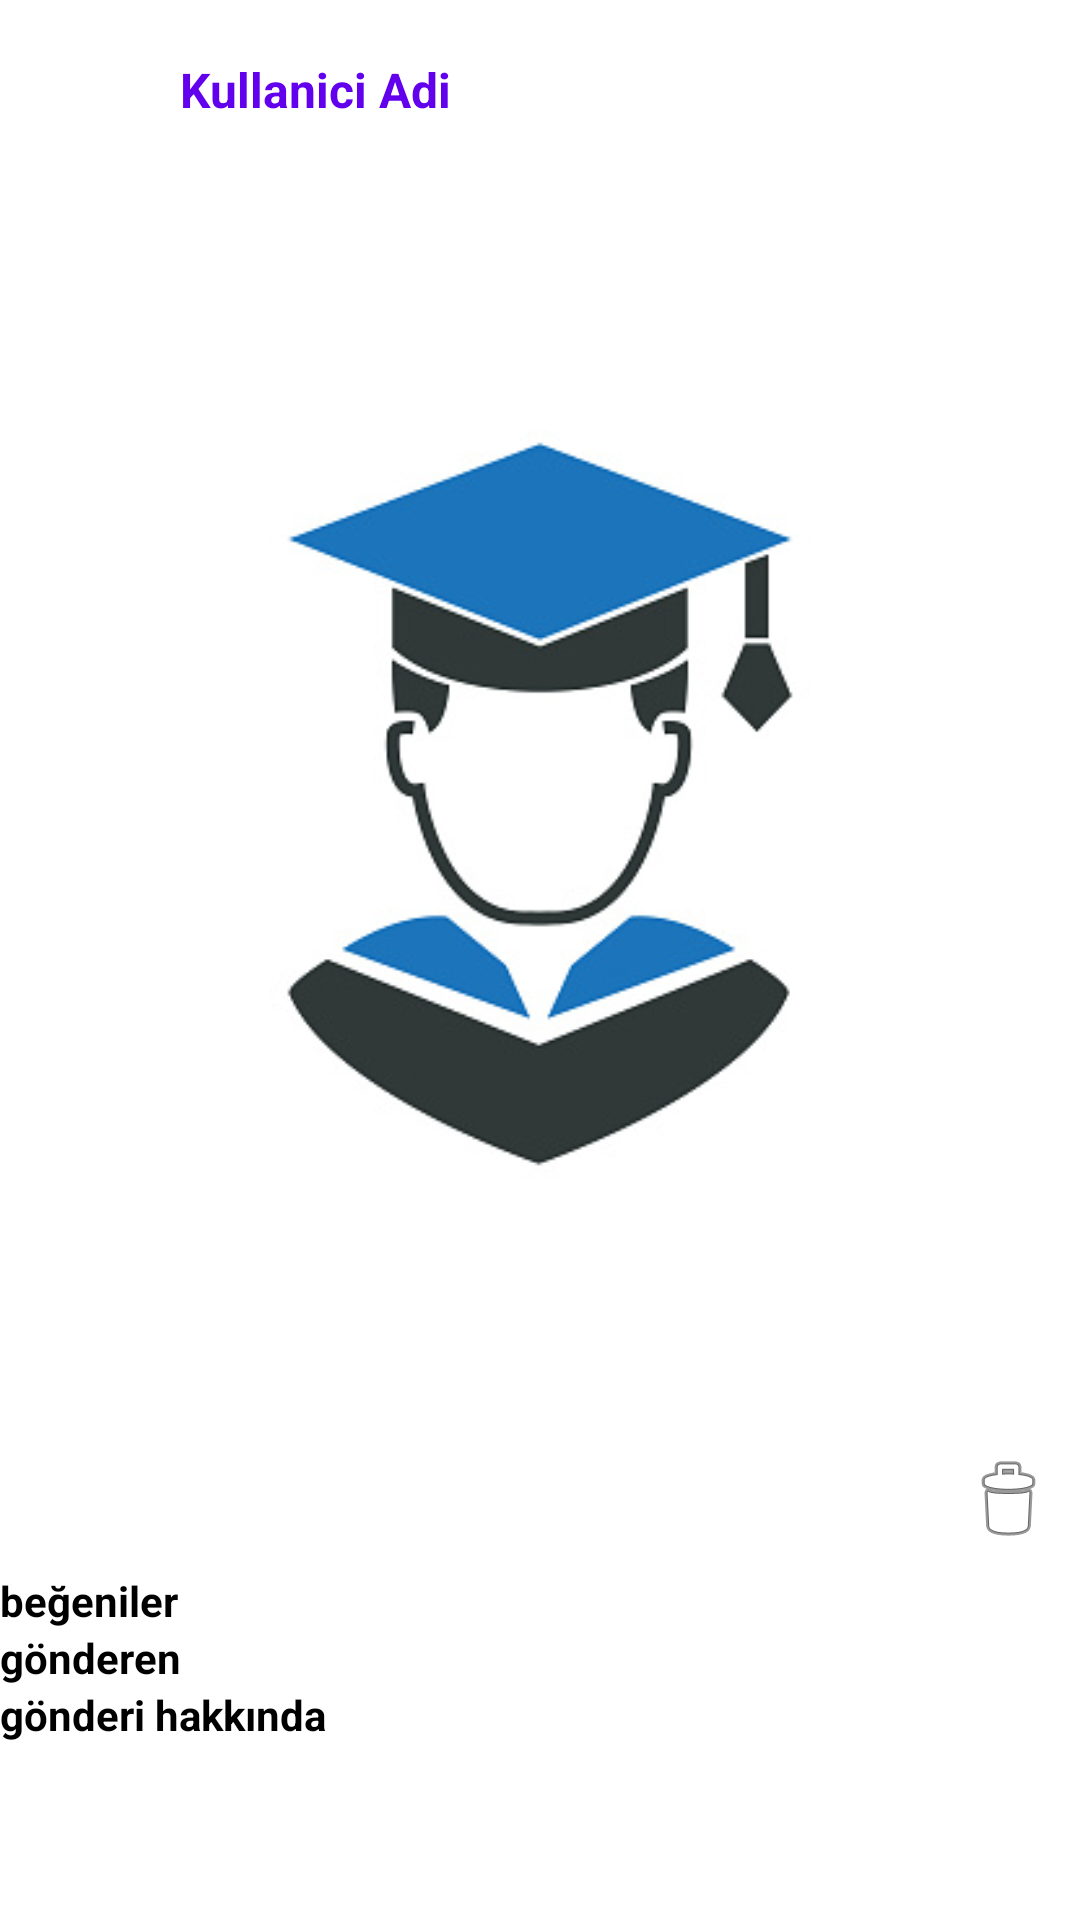

Icon bounding boxes for this 1080 × 1920 phone screenshot, format (x1, y1, x2, y2):
delete: (981, 1461, 1036, 1536)
